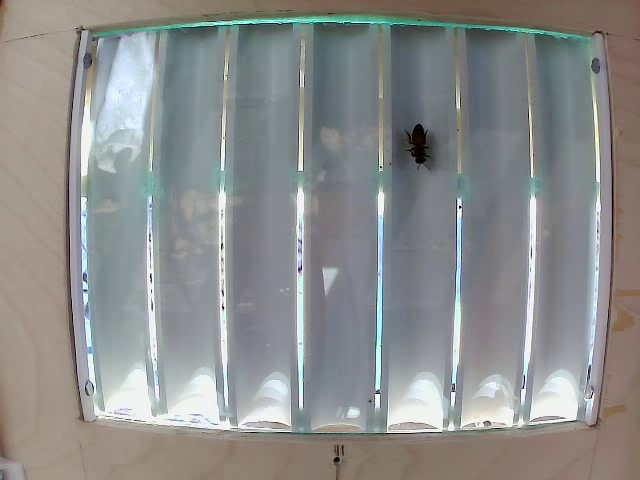bee: (388, 122, 433, 173)
